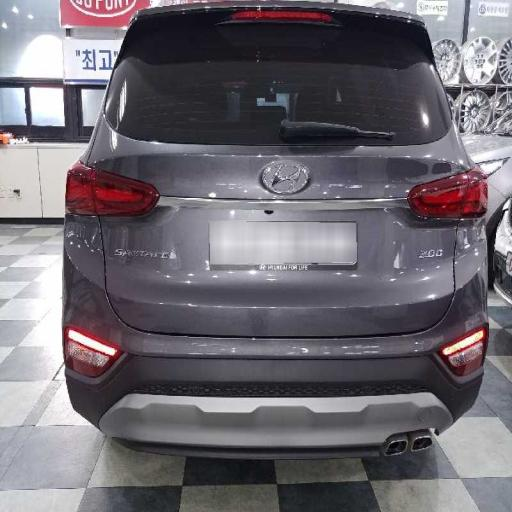scratch: (60, 171, 197, 380), (392, 174, 490, 349)
